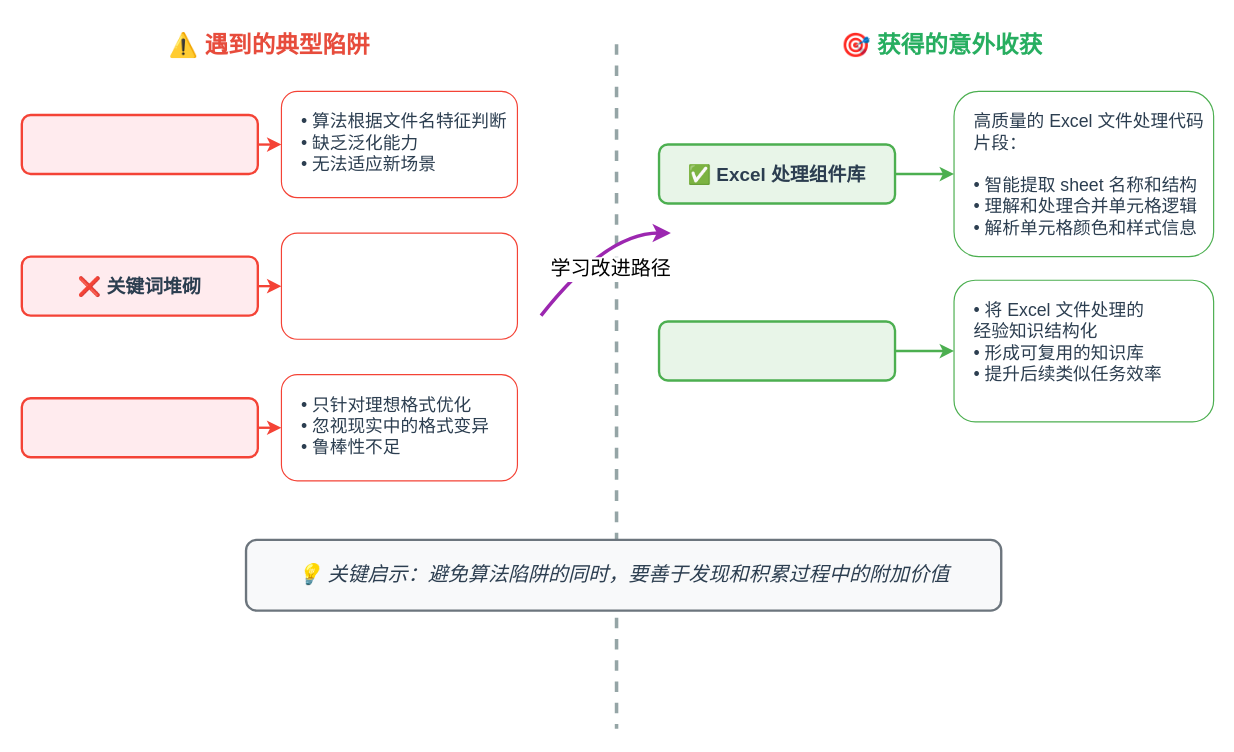
Some shapes in this 1234 by 752 pixel diagram are drawn without their labels. Here are the shapes that lost their labels. From the top down, the centre of each, then its label:
the point at 139,144: ❌ 过度拟合
the point at 398,285: • 大量硬编码关键词匹配 • 算法脆弱且不通用 • 维护成本高
the point at 776,350: ✅ 领域知识积累
the point at 139,427: ❌ 忽视边界情况
